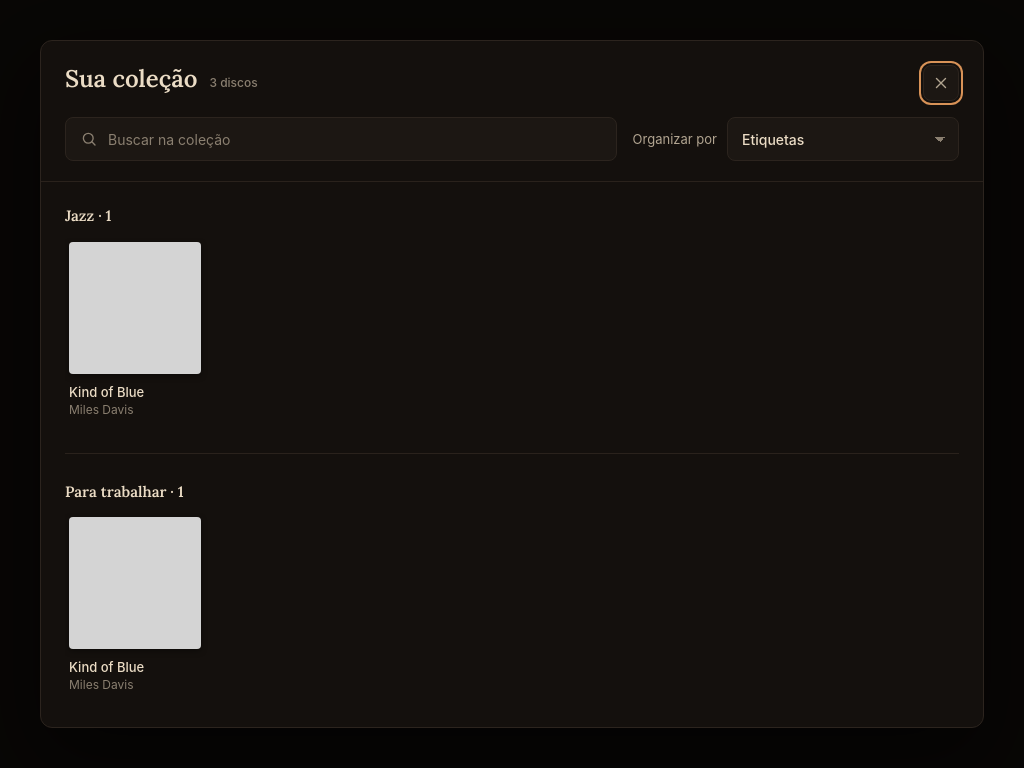
Collection › busca › nada encontrado: aviso
The width and height of the screenshot is (1024, 768).
Step 1. Type "xyz" into the search field → (355,139), box [108,118,602,160]
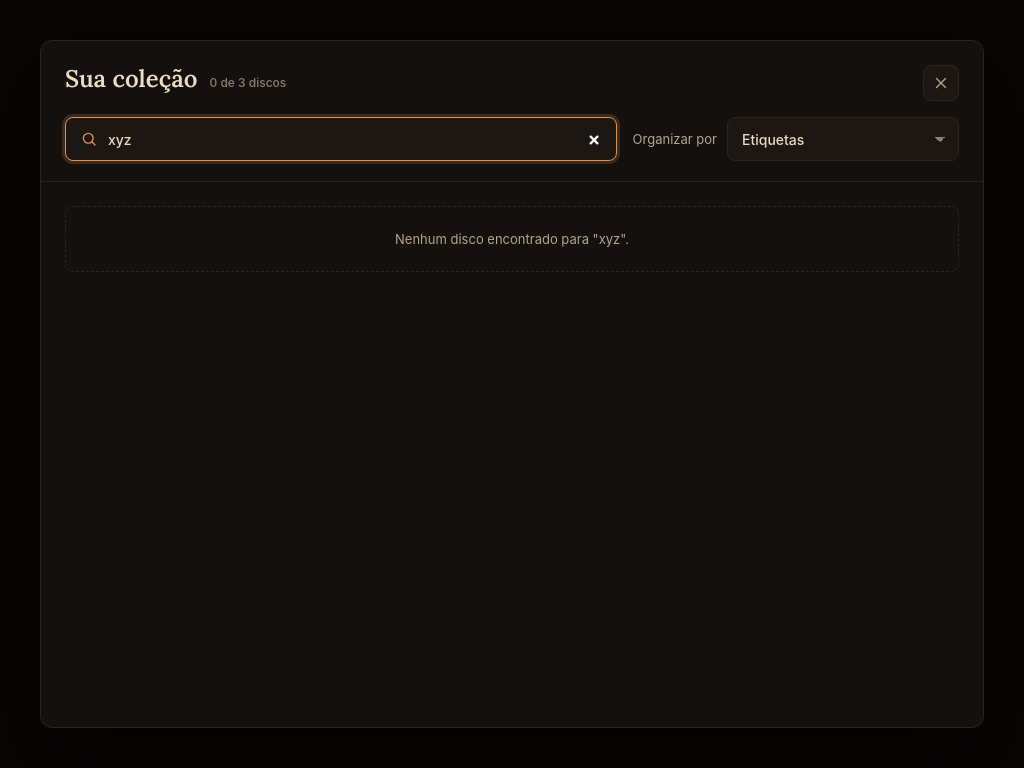
Now the text "Nenhum disco encontrado para \"xyz\"." is shown, box [65,206,959,272]
